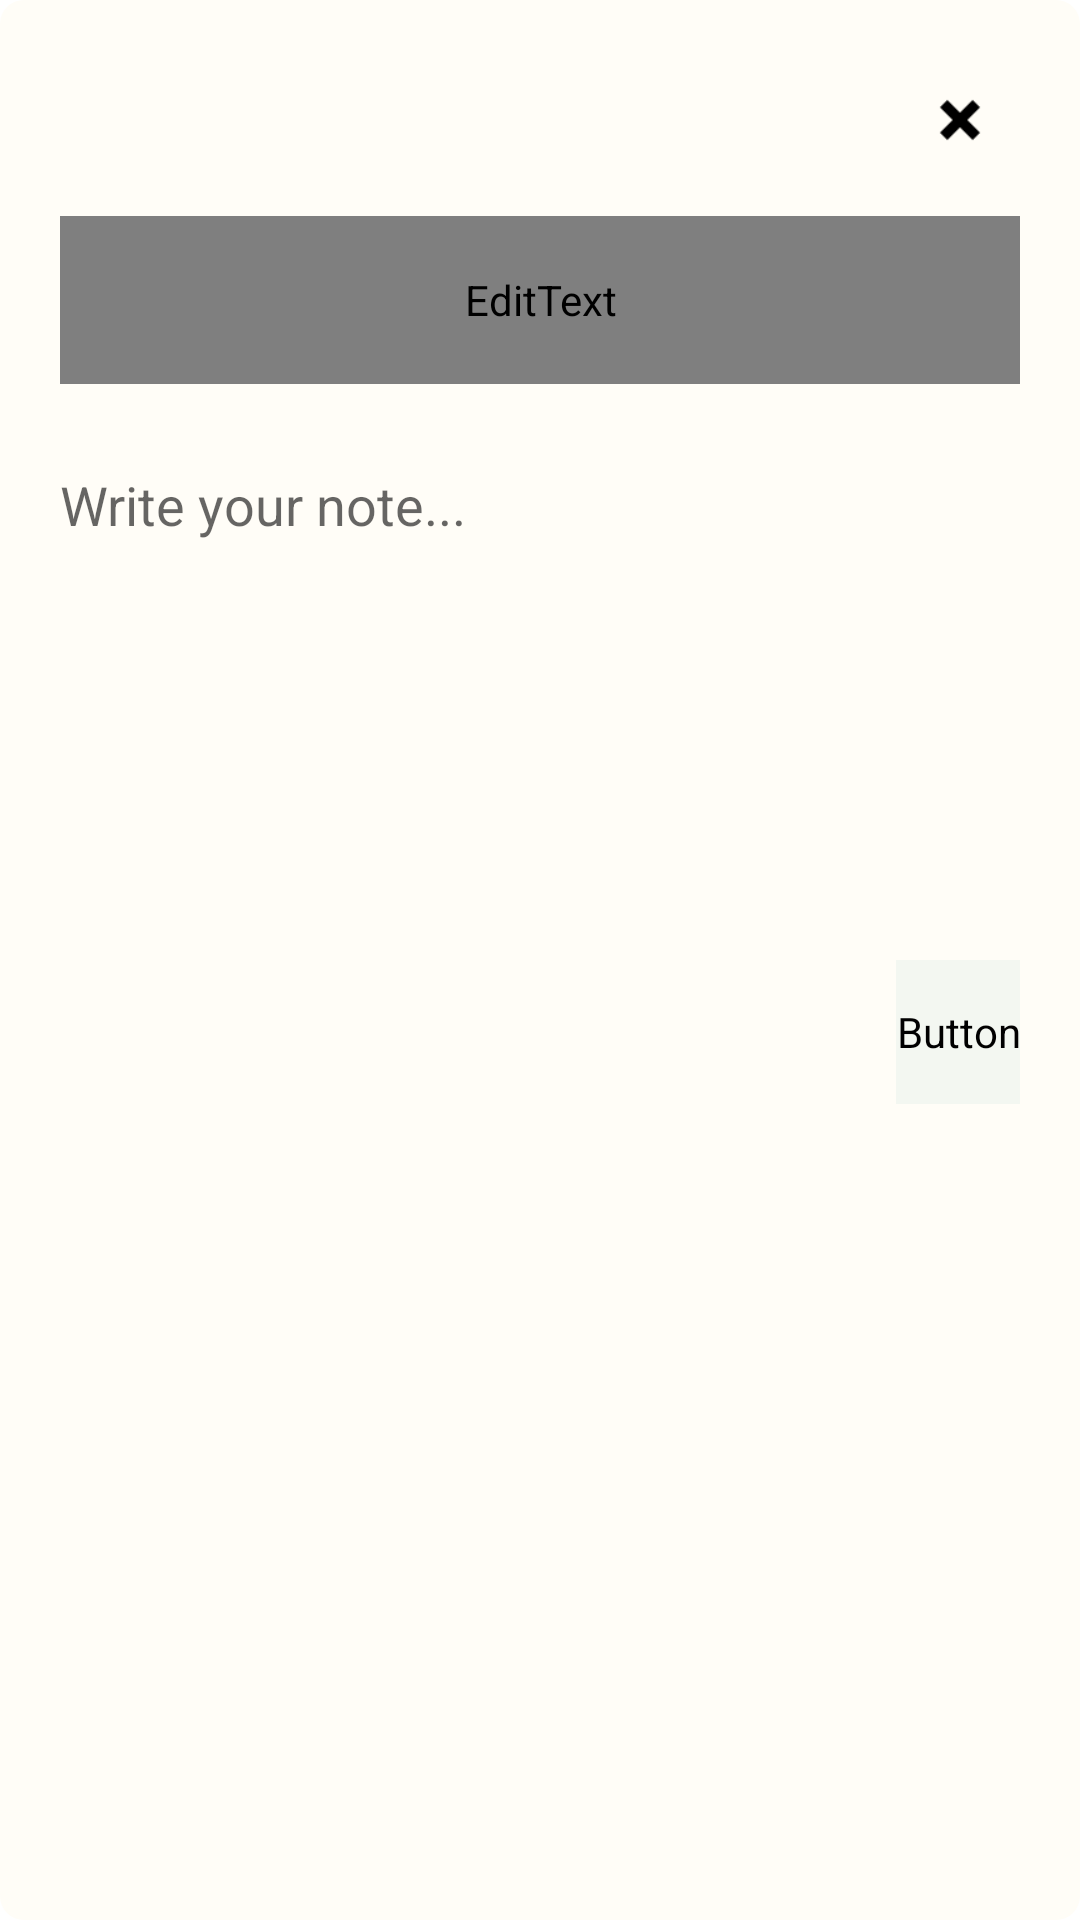

Named icons in this screenshot (1080*1920) and their bounding boxes, {"x1": x1, "y1": y1, "x2": x2, "y2": y2}:
Cancel: {"x1": 940, "y1": 100, "x2": 980, "y2": 140}
